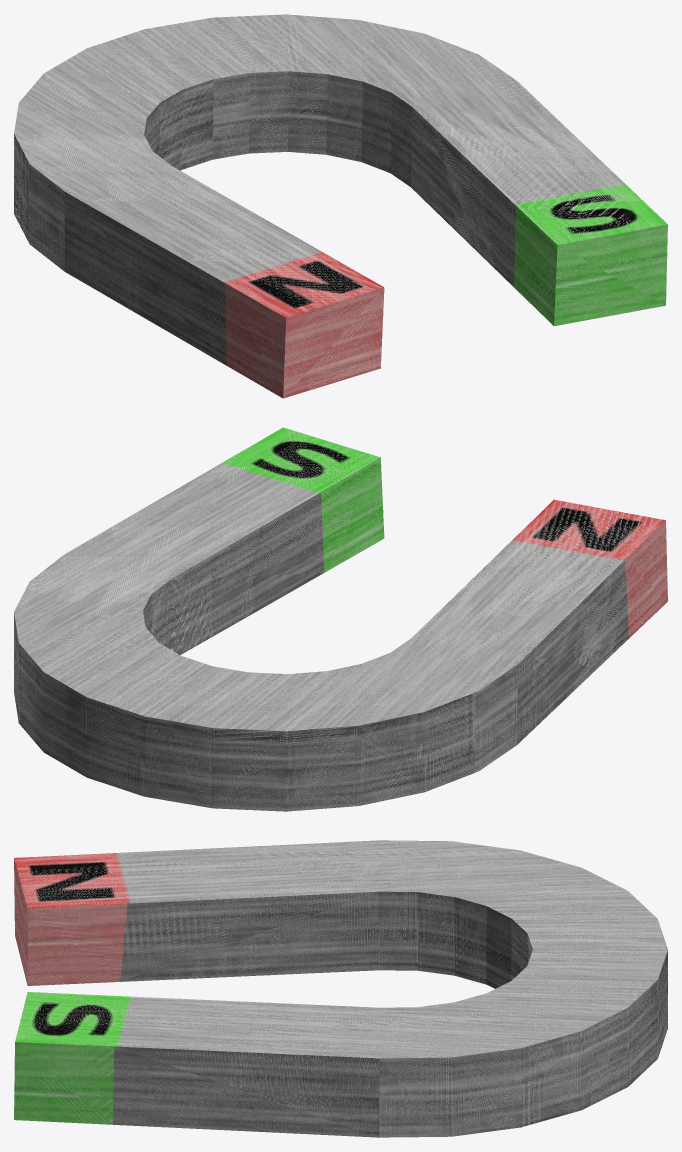
File: horseshoe_magnet.dae
The picture shows the model from 3 angles, top to bottom: view 1: azimuth 30°, elevation 25°; view 2: azimuth 150°, elevation 25°; view 3: azimuth 270°, elevation 25°; orthographic projection.
Parts seen in each view (by area): view 1: SketchUp (×5); view 2: SketchUp (×5); view 3: SketchUp (×5).
Boxes of the visible parts, x1,y1,x2,y2 form: SketchUp (×5): [14, 14, 667, 398]; SketchUp (×5): [14, 427, 667, 811]; SketchUp (×5): [14, 840, 667, 1137].
Bounding box in the file's own units: 153 × 194 × 25.98.
